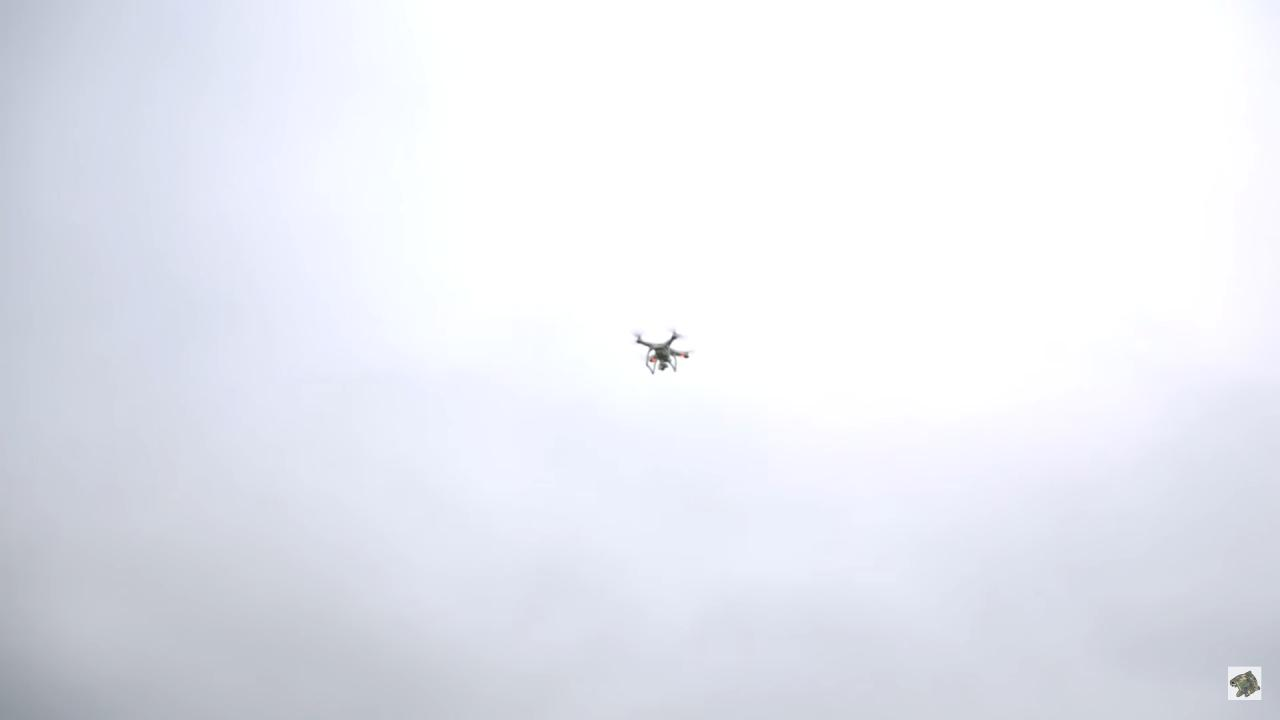Drone: (626, 322, 700, 383)
